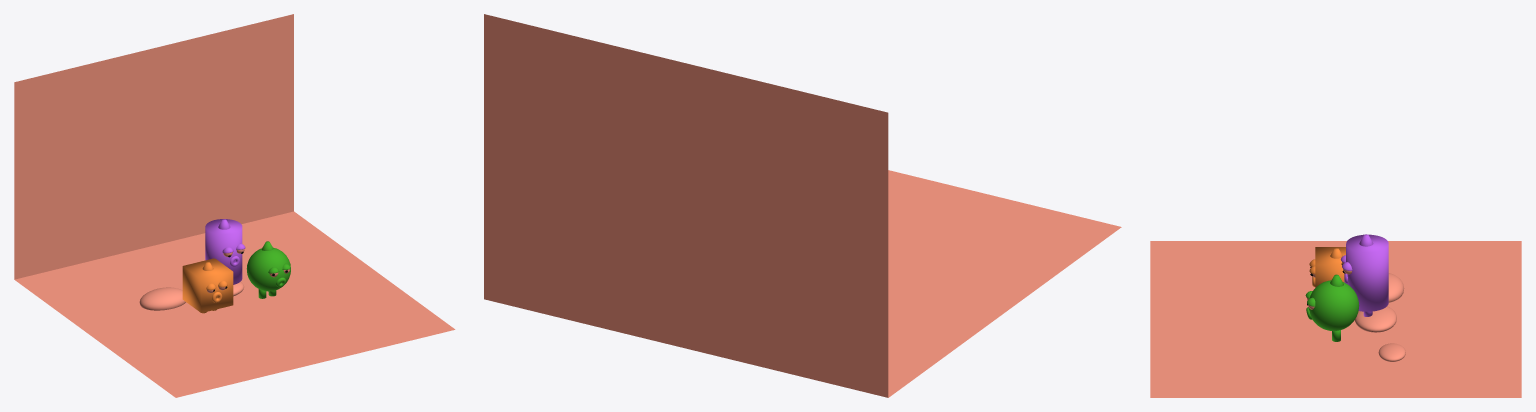
The model's file is 萌三兄弟.gltf.
The picture shows the model from 3 angles, left to right: view 1: azimuth 30°, elevation 25°; view 2: azimuth 150°, elevation 25°; view 3: azimuth 270°, elevation 25°; orthographic projection. The views are drawn at different scales.
Visible parts, largest first — view 1: 平面, Cube, 柱体.004, 球体.006, 球体.020; view 2: 平面; view 3: 平面, 柱体.004, 球体.006, Cube, 球体.019, 球体.021, 球体.020.
Boxes of the visible parts, bbox=[...] form: 平面: bbox=[14, 14, 455, 397]; Cube: bbox=[182, 258, 233, 312]; 柱体.004: bbox=[205, 219, 242, 284]; 球体.006: bbox=[246, 247, 290, 291]; 球体.020: bbox=[139, 287, 185, 310]; 平面: bbox=[484, 14, 1121, 397]; 平面: bbox=[1150, 241, 1521, 397]; 柱体.004: bbox=[1346, 234, 1388, 311]; 球体.006: bbox=[1308, 280, 1359, 331]; Cube: bbox=[1315, 247, 1345, 287]; 球体.019: bbox=[1354, 306, 1396, 332]; 球体.021: bbox=[1378, 343, 1405, 361]; 球体.020: bbox=[1388, 273, 1404, 302].
Bounding box in the file's own units: 17.42 × 12.16 × 17.42.
